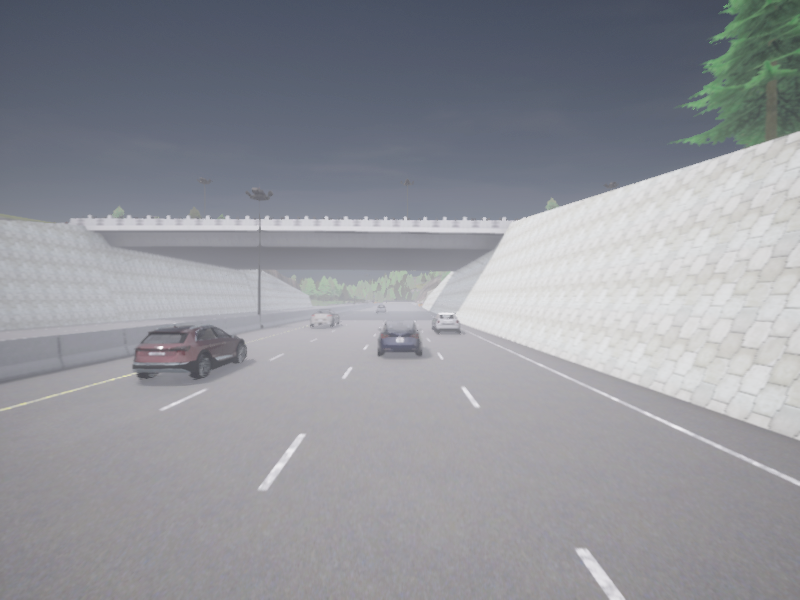vehicle: (132, 324, 245, 378), (377, 321, 422, 355), (432, 313, 459, 332), (310, 309, 339, 326), (377, 305, 385, 312)
